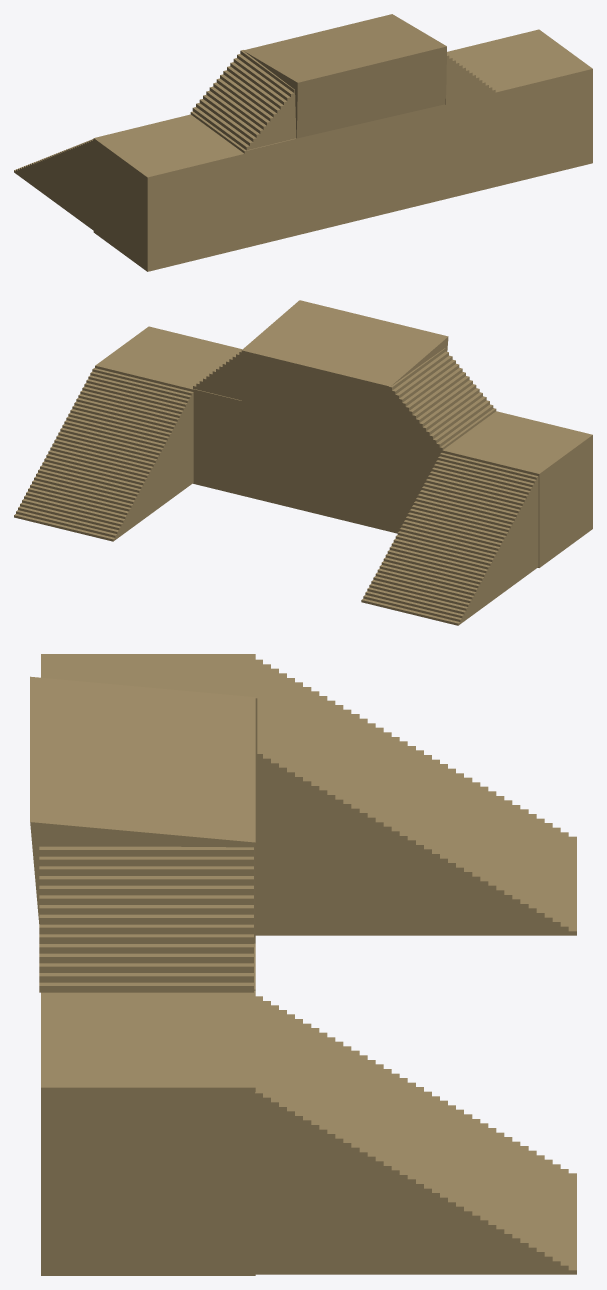
Rendered from F3PS_Level_stairs.fbx.
3 views of the same model, one above another, from view 1: azimuth 30°, elevation 25°; view 2: azimuth 150°, elevation 25°; view 3: azimuth 270°, elevation 25° (orthographic). The views are drawn at different scales.
Parts seen in each view (by area): view 1: Stairs__1_.002; view 2: Stairs__1_.002; view 3: Stairs__1_.002.
Boxes of the visible parts, box(x1,y1,x2,y2) form: Stairs__1_.002: box(14, 14, 592, 271); Stairs__1_.002: box(14, 300, 592, 625); Stairs__1_.002: box(30, 654, 576, 1275).
Bounding box in the file's own units: 1803 × 599 × 959.
